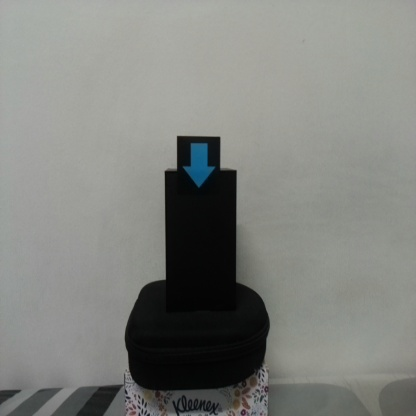id_2: (177, 137, 221, 197)
